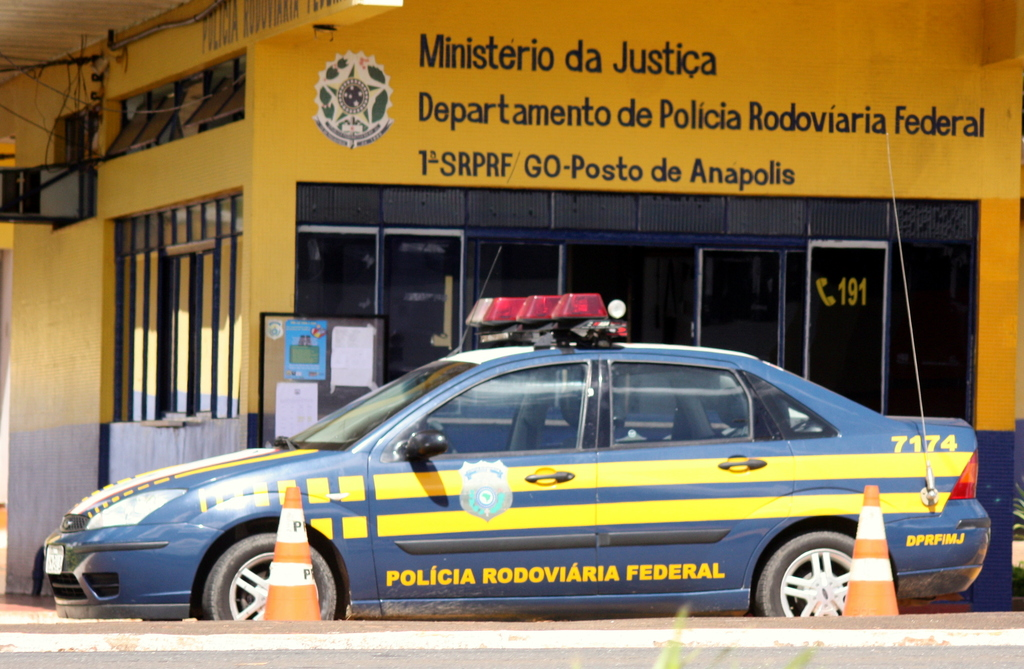mobil: (45, 333, 994, 635)
